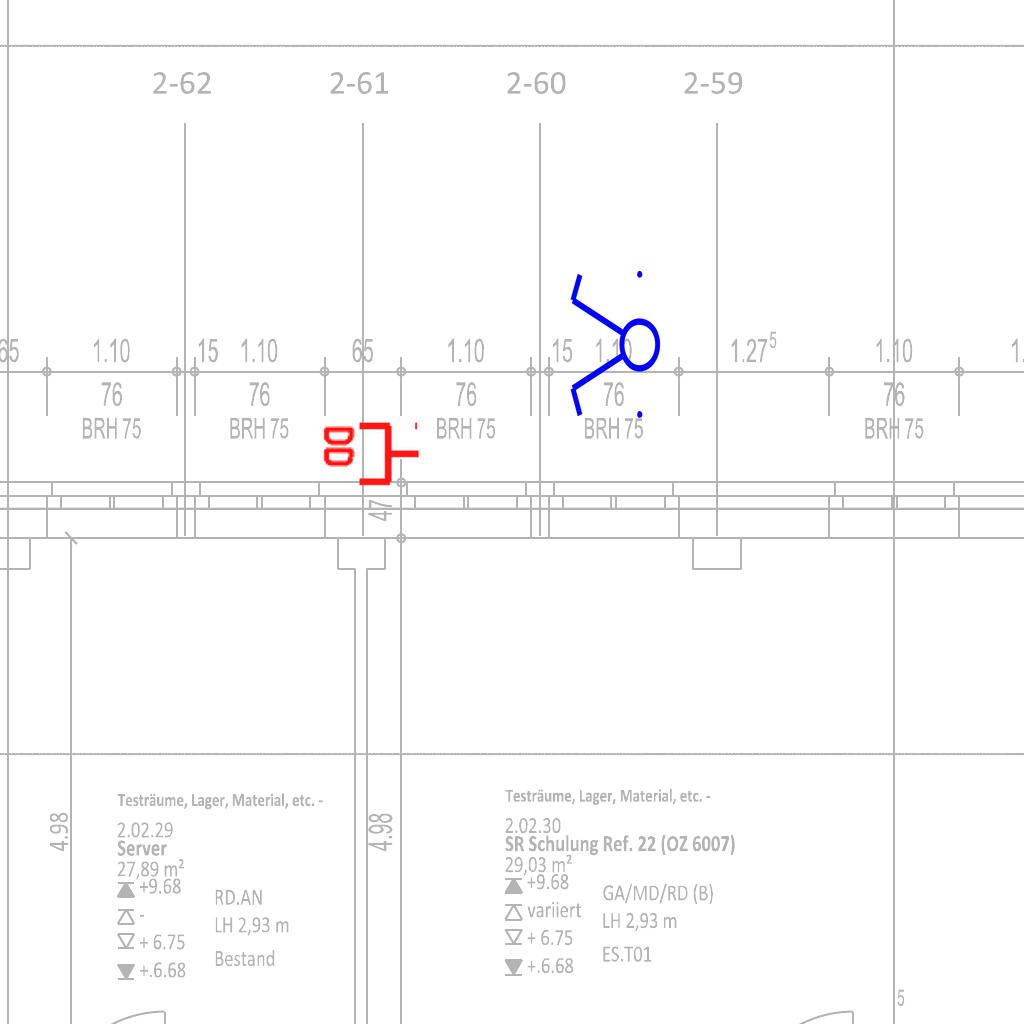Datenanschluss_zweifach: (319, 421, 422, 490)
Serienschalter: (566, 262, 662, 430)
